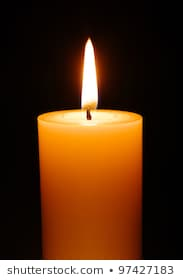Fire: (76, 32, 104, 112)
